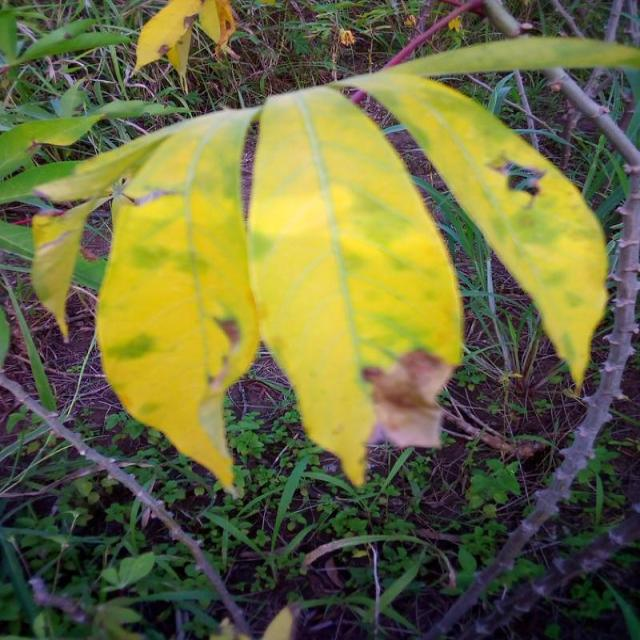cassava leaf: (29, 67, 609, 495), (324, 67, 610, 395), (246, 85, 464, 488), (93, 108, 261, 498)
